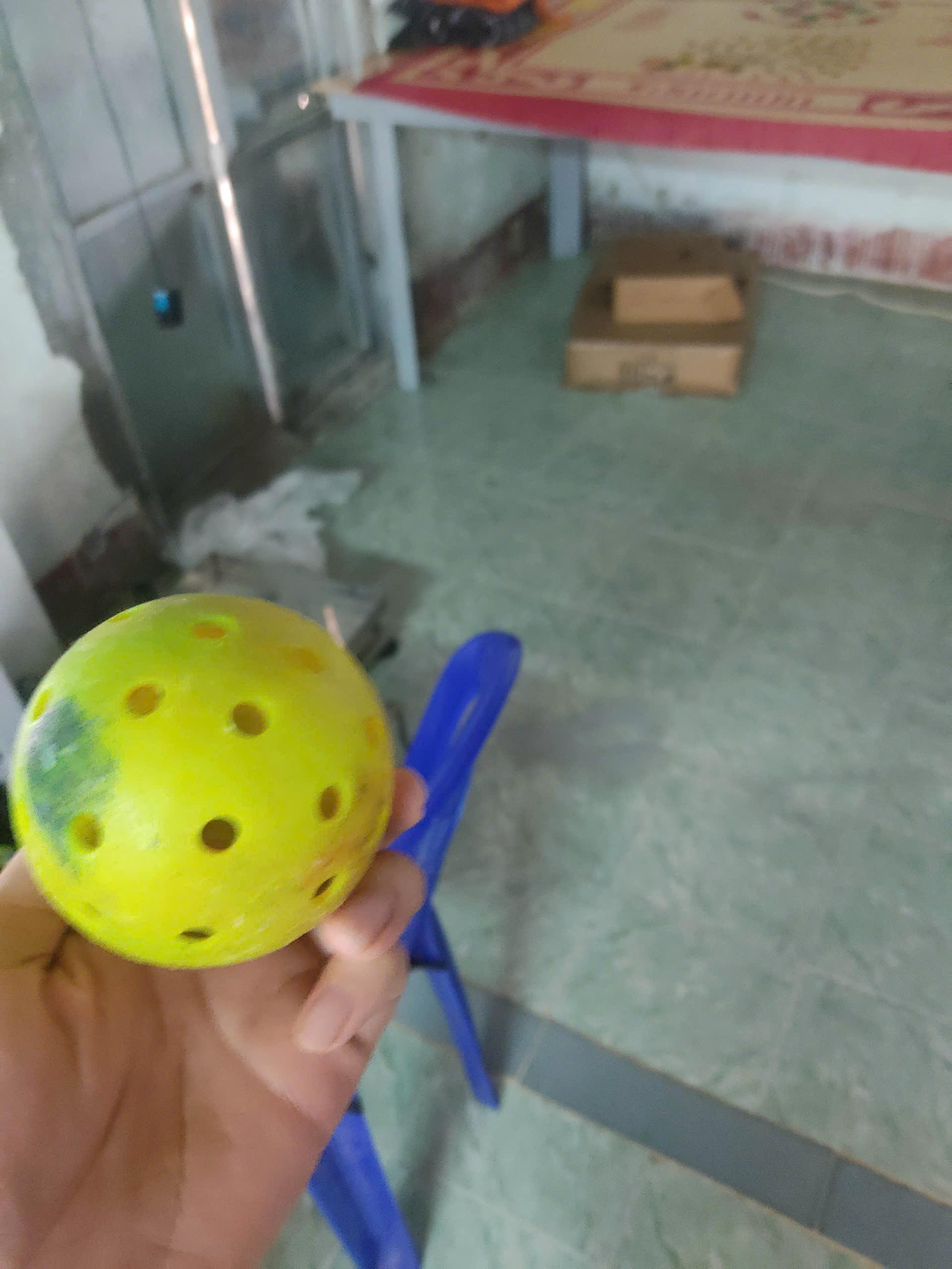ball: (12, 583, 413, 982)
